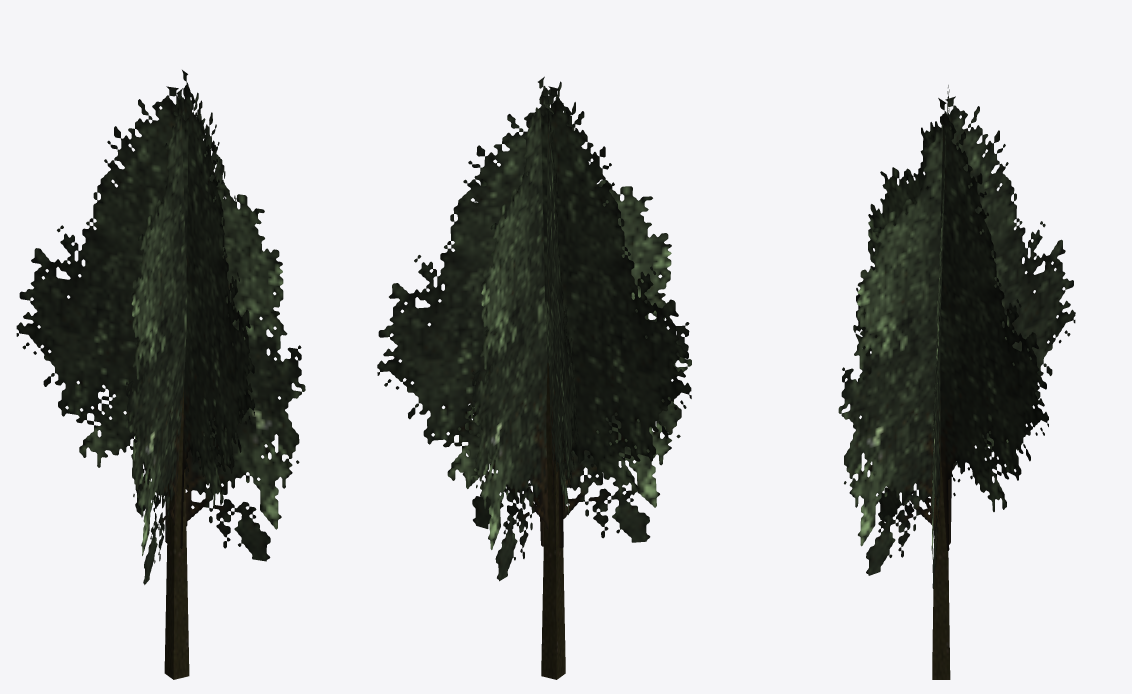
File: Tree_3.fbx
3 renders of one model, left to right at view 1: azimuth 30°, elevation 25°; view 2: azimuth 150°, elevation 25°; view 3: azimuth 270°, elevation 25°, orthographic.
Parts seen in each view (by area): view 1: Tree.3; view 2: Tree.3; view 3: Tree.3.
Part boxes in pixels (x1,y1,x2,y2): Tree.3: [16, 70, 305, 679]; Tree.3: [377, 76, 691, 679]; Tree.3: [838, 85, 1075, 679].
Size of the model in its own units: 782 by 1514 by 795.
